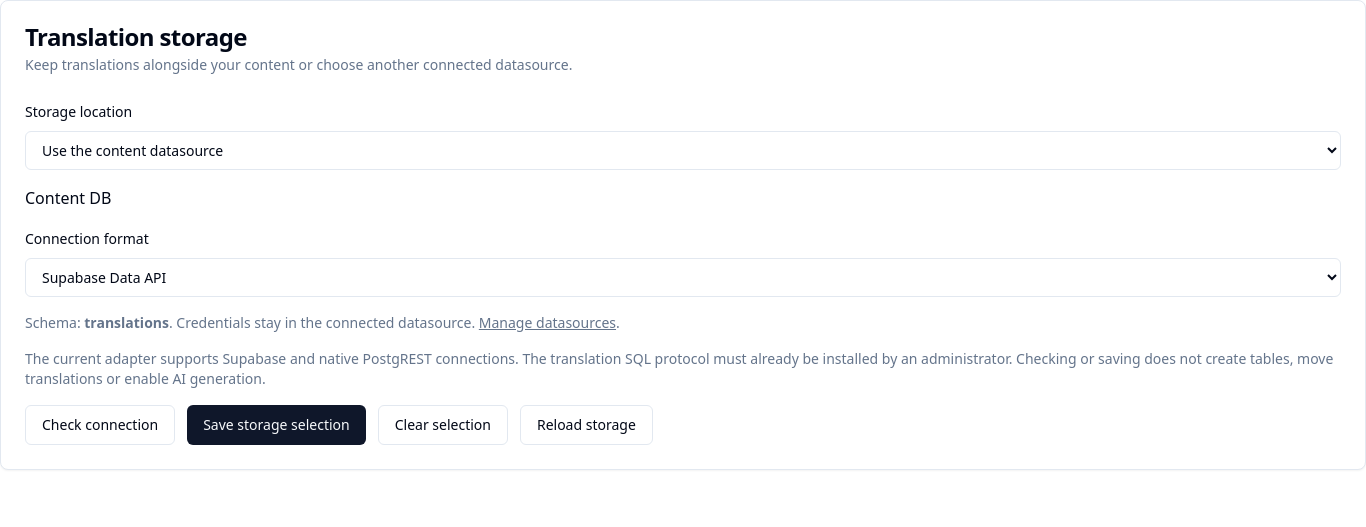
Test case: Translation storage settings › clears only the selection and explains preservation
Expected: the text "Content DB" is shown, [25,187,111,209]
Click the button "Clear selection".
click(443, 425)  # box [378,405,508,445]
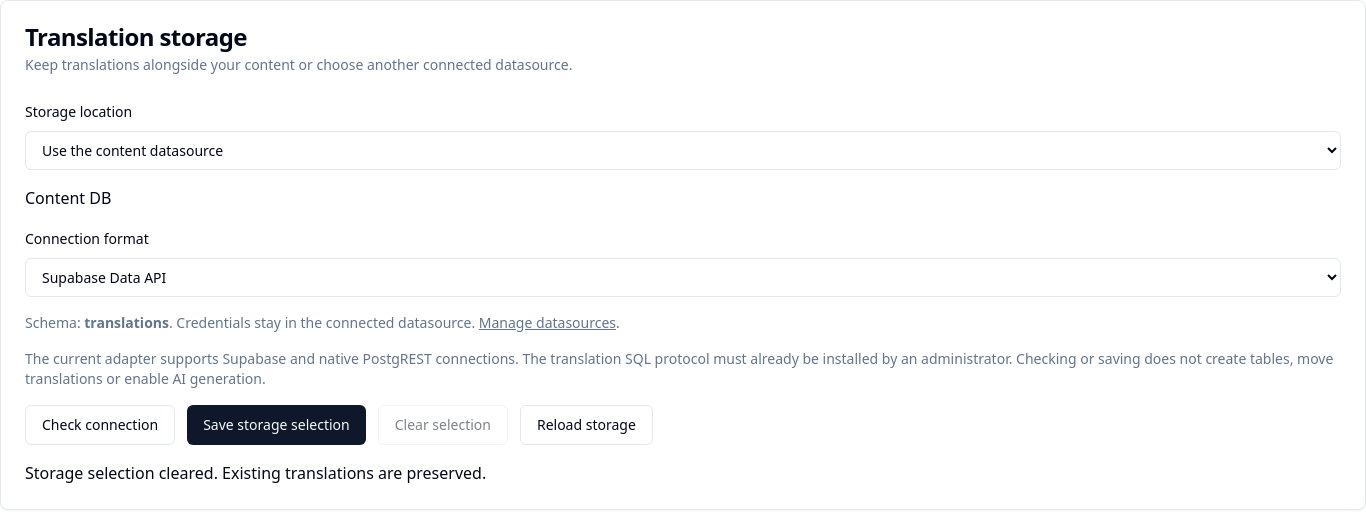
Expected: the text "Storage selection cleared. Existing translations are preserved." is shown, [25,462,486,484]
